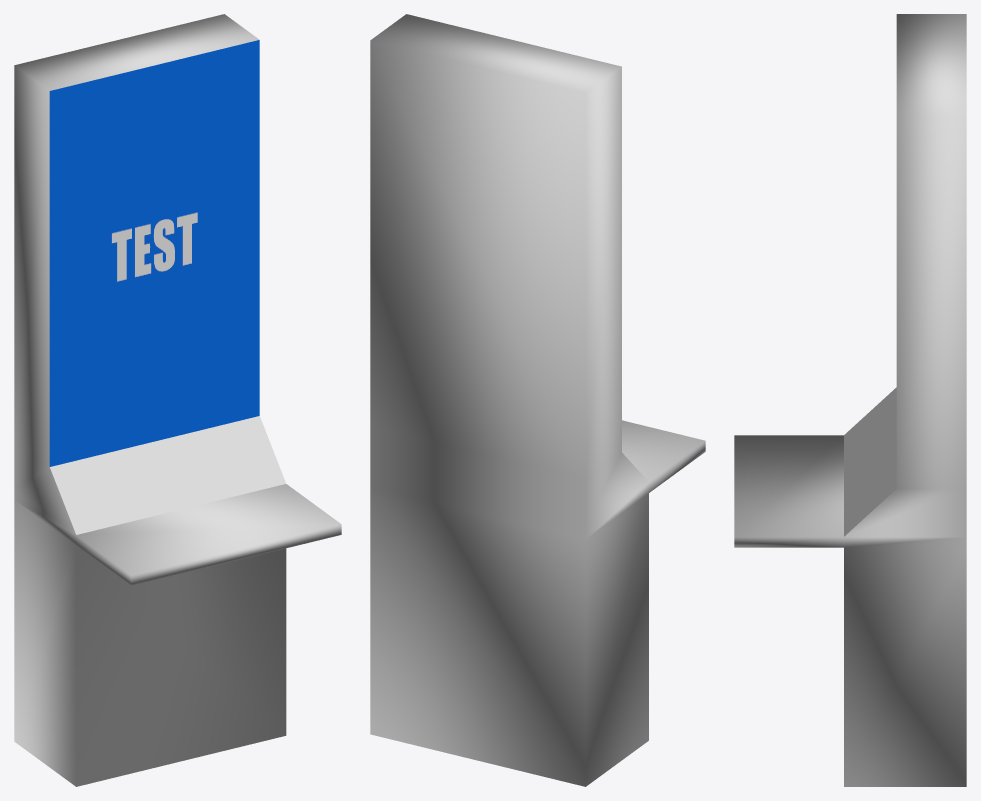
The picture shows the model from 3 angles, left to right: view 1: azimuth 30°, elevation 25°; view 2: azimuth 150°, elevation 25°; view 3: azimuth 270°, elevation 25°; orthographic projection. The views are drawn at different scales.
Parts seen in each view (by area): view 1: test_1; view 2: test_1; view 3: test_1.
Part boxes in pixels (x1,y1,x2,y2): test_1: (14,14,341,786); test_1: (370,14,705,786); test_1: (734,14,966,786).
Size of the model in its own units: 0.7055 by 2.17 by 0.6806.
2 materials, 1 textured.
